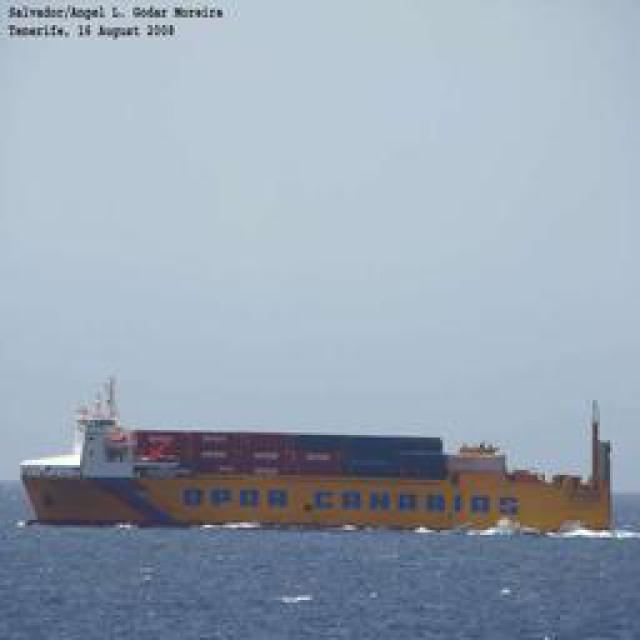Ship: (27, 389, 620, 534)
